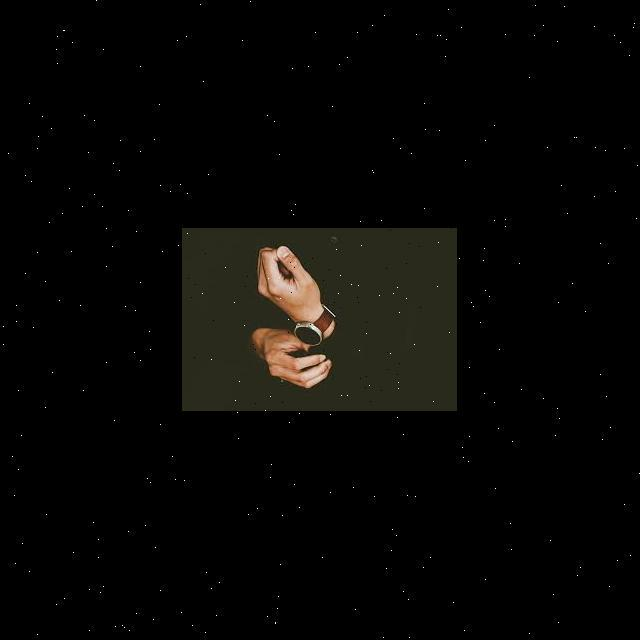watch: (288, 307, 350, 348)
